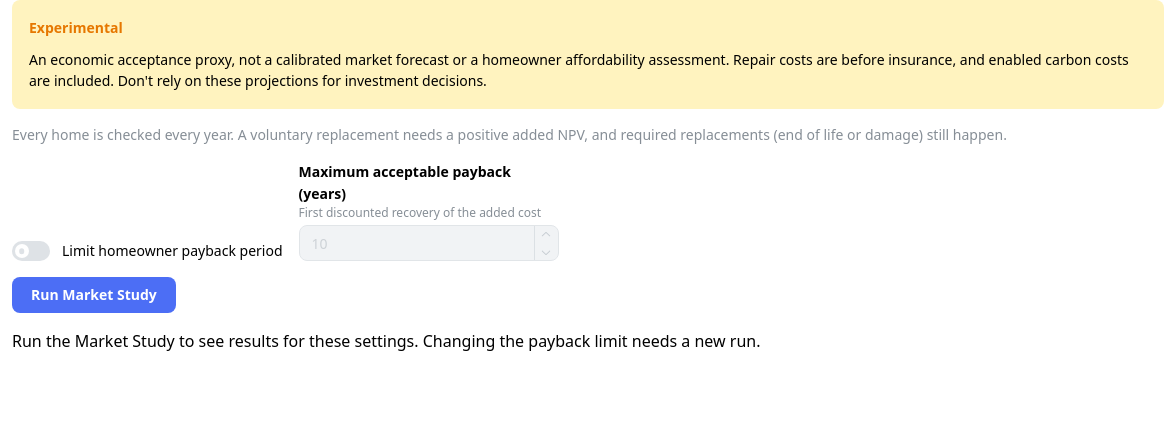
Test case: MarketStudyTab › runs the study with no payback limit and shows it
Expected: the text "Run the Market Study to see results" is shown, left=12, top=330, right=760, bottom=352
Click the button "Run Market Study".
click(94, 295)  # box left=12, top=277, right=176, bottom=313
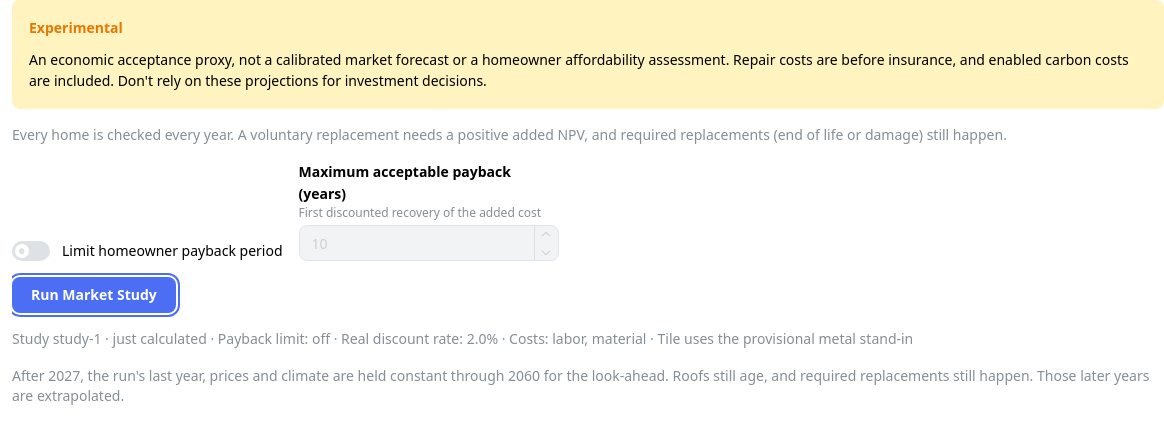
Expected: the text "just calculated" is shown, left=112, top=329, right=207, bottom=348
Expected: the text "held constant through 2060" is shown, left=12, top=366, right=1163, bottom=406
